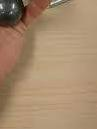ironball: (0, 0, 26, 29)
